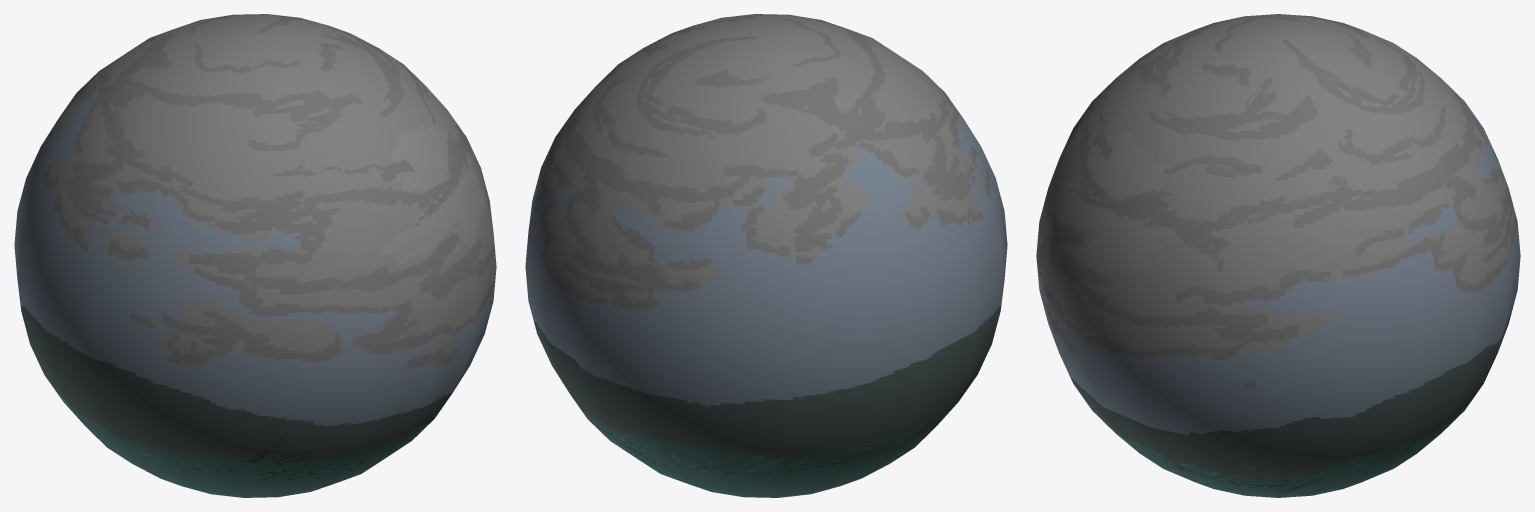
The model's file is skydome.glb.
The picture shows the model from 3 angles, left to right: view 1: azimuth 30°, elevation 25°; view 2: azimuth 150°, elevation 25°; view 3: azimuth 270°, elevation 25°; orthographic projection.
Visible parts, largest first — view 1: skysphere_geo; view 2: skysphere_geo; view 3: skysphere_geo.
Part boxes in pixels (box(x1,y1,x2,y2)): skysphere_geo: box(14, 14, 496, 497); skysphere_geo: box(525, 14, 1007, 497); skysphere_geo: box(1036, 14, 1520, 497).
Bounding box in the file's own units: 106 × 106 × 106.
Materials: 1 (1 with a texture image).
